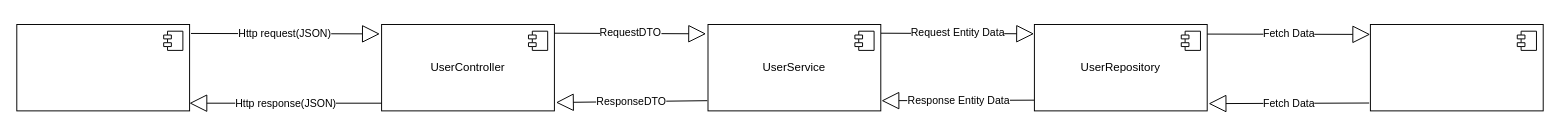
Image size: 1560x138. Some labels were removed from this diagram. Each missing label, with the centre of its shape:
"Client" belongs at [103,67].
"Database" belongs at [1456,67].
